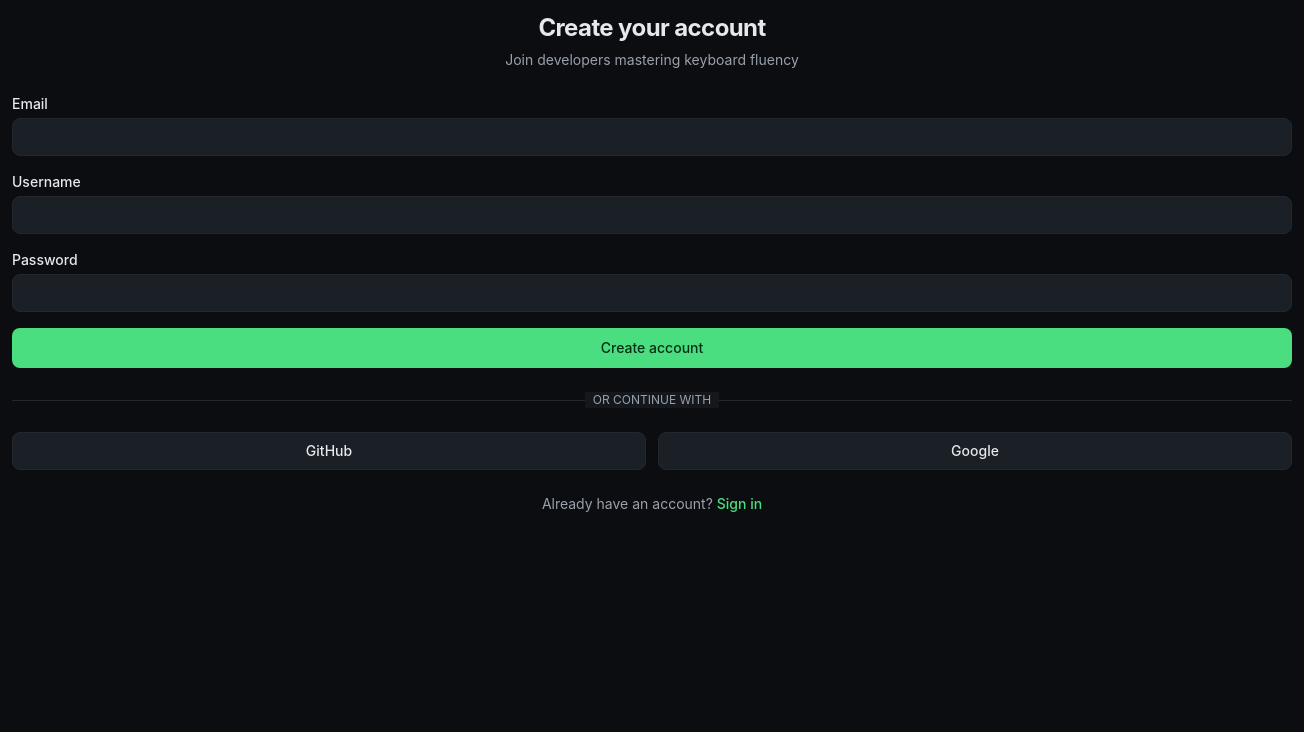
RegisterPage Component › validates password length on client before submission
Type "dev@devtype.com" into the field labelled "Email" at [652, 137], box [12,118,1292,156]
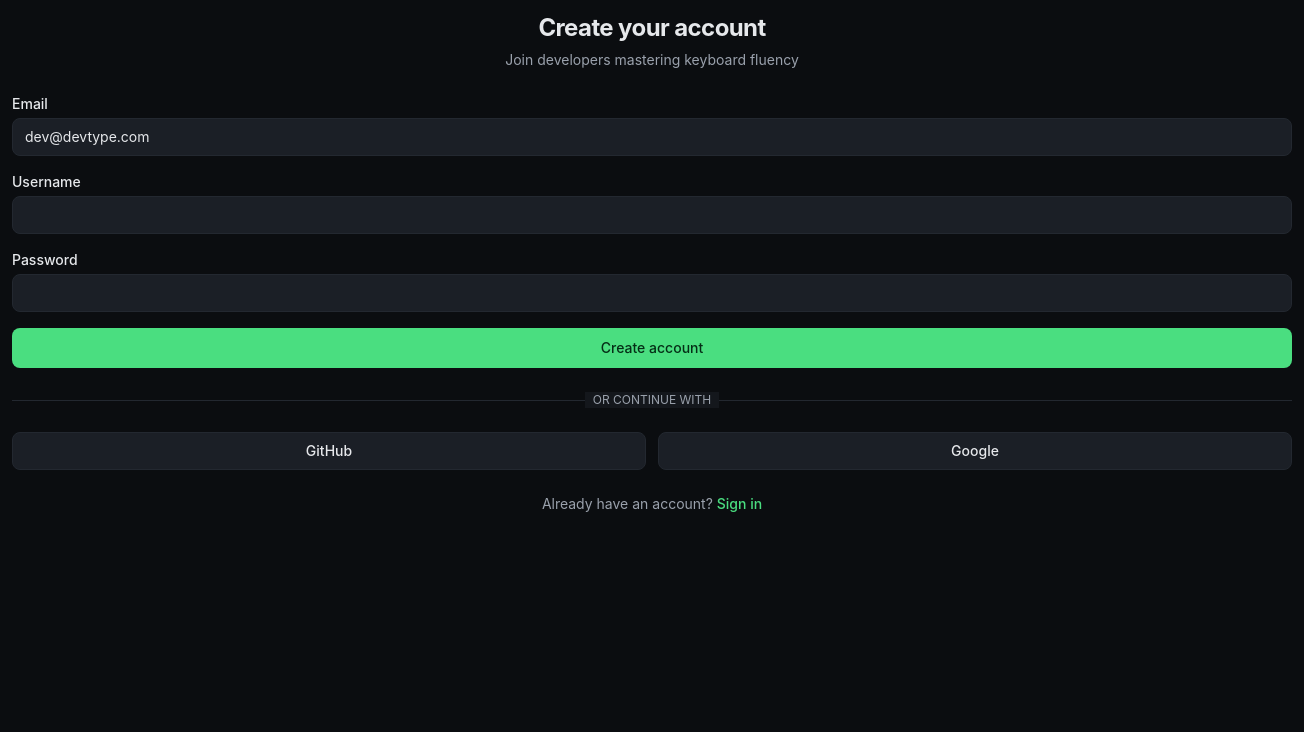
Type "validuser" into the field labelled "Username" at [652, 215], box [12,196,1292,234]
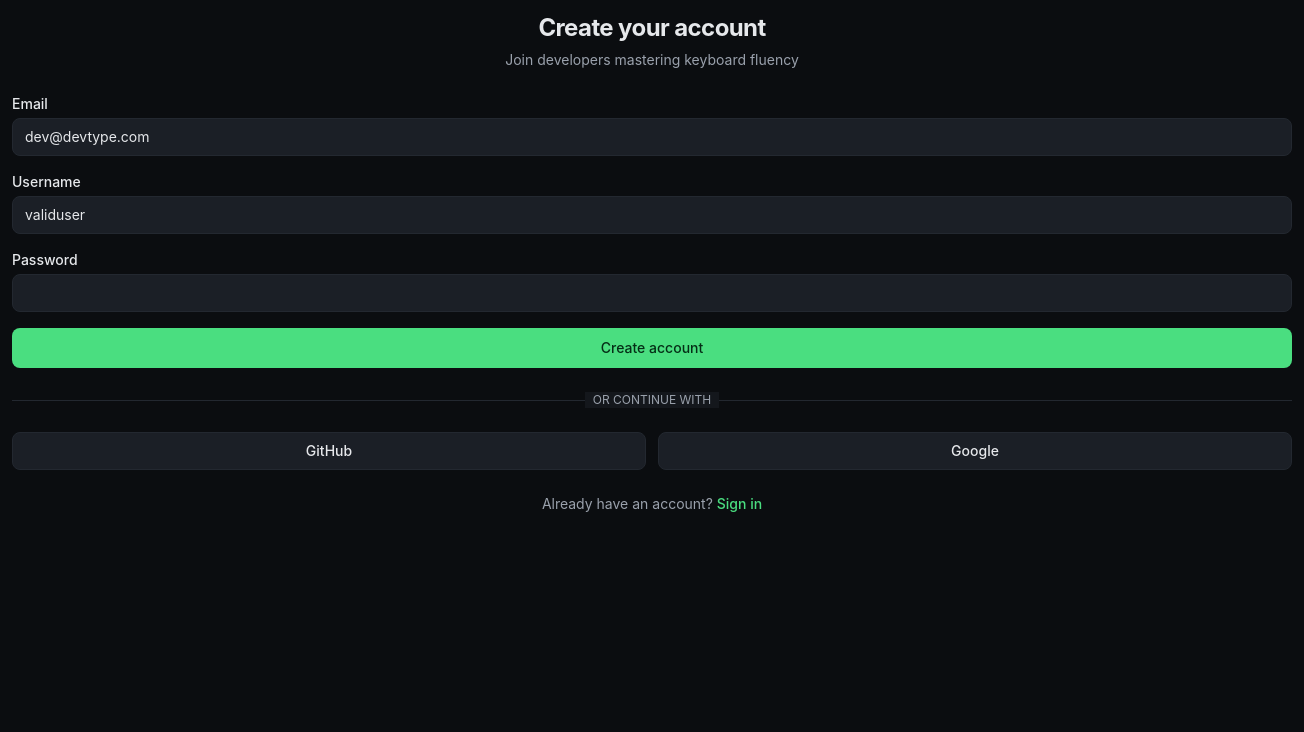
Type "short" into the password field labelled "Password" at [652, 293], box [12,274,1292,312]
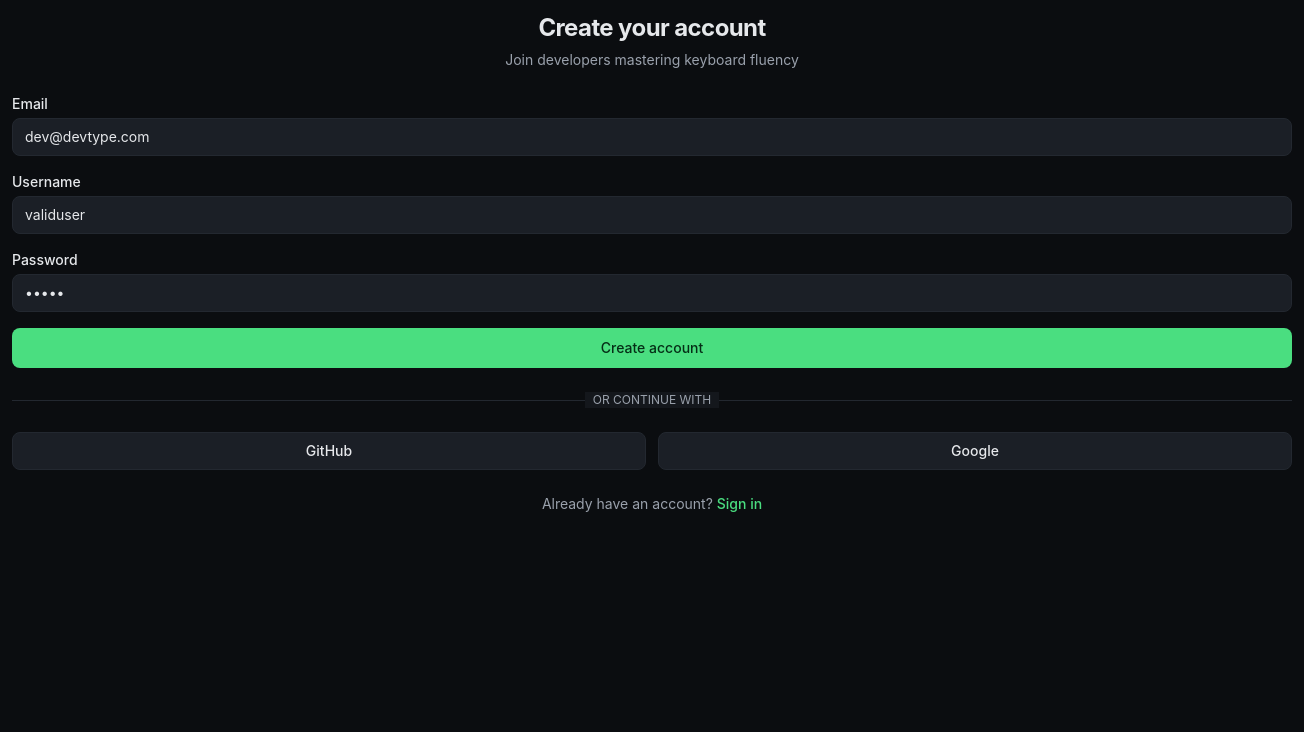
Click the button "Create account" at [652, 348], box [12,328,1292,368]
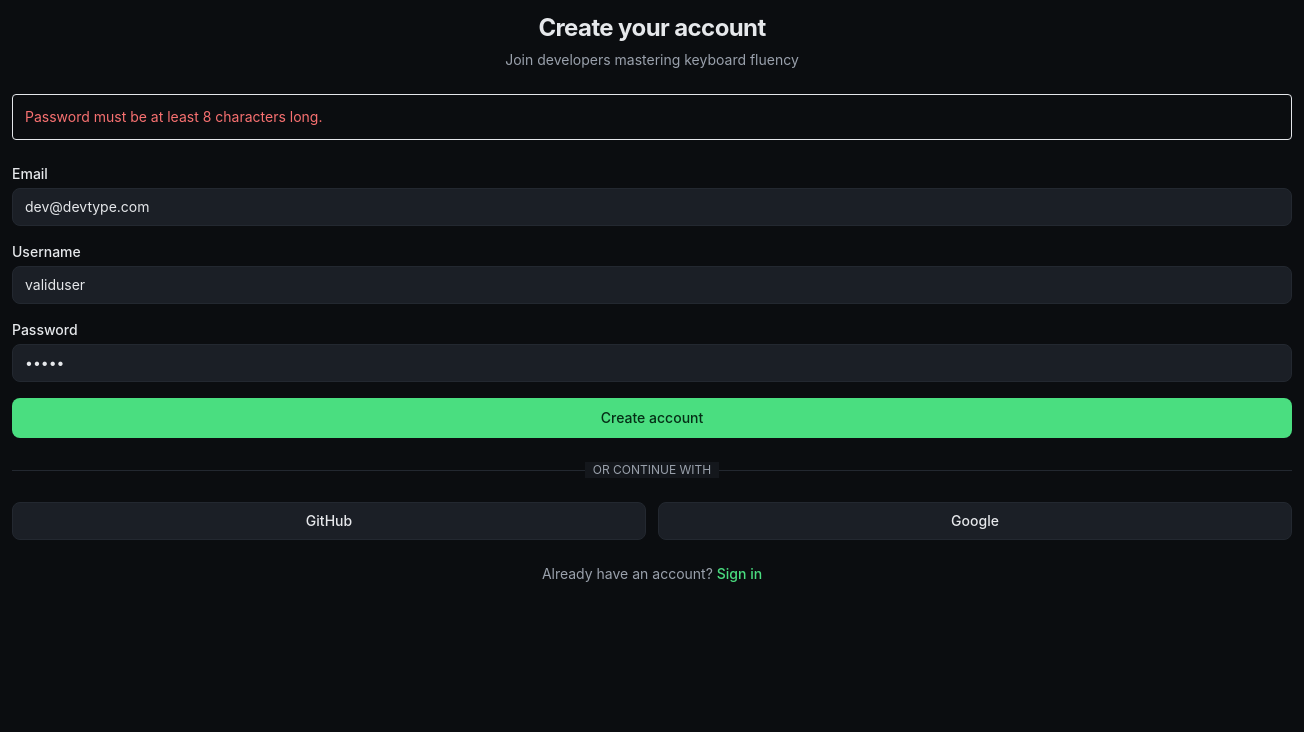
Now the message "Password must be at least 8 characters long." is shown, box [12,94,1292,140]
